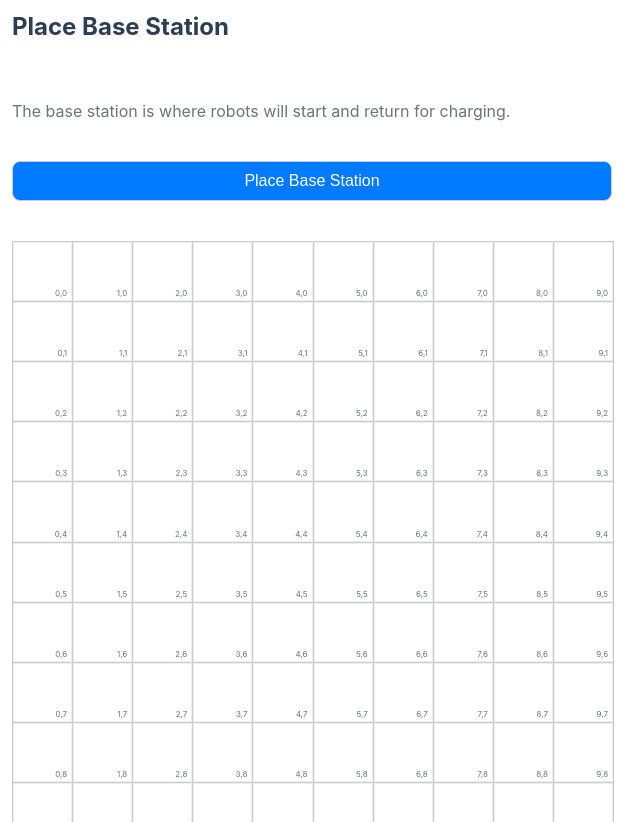
Test: BaseStationStep Component › enables placement mode when button is clicked
Click the button "Place Base Station" at (312, 181), box [12,161,612,201]
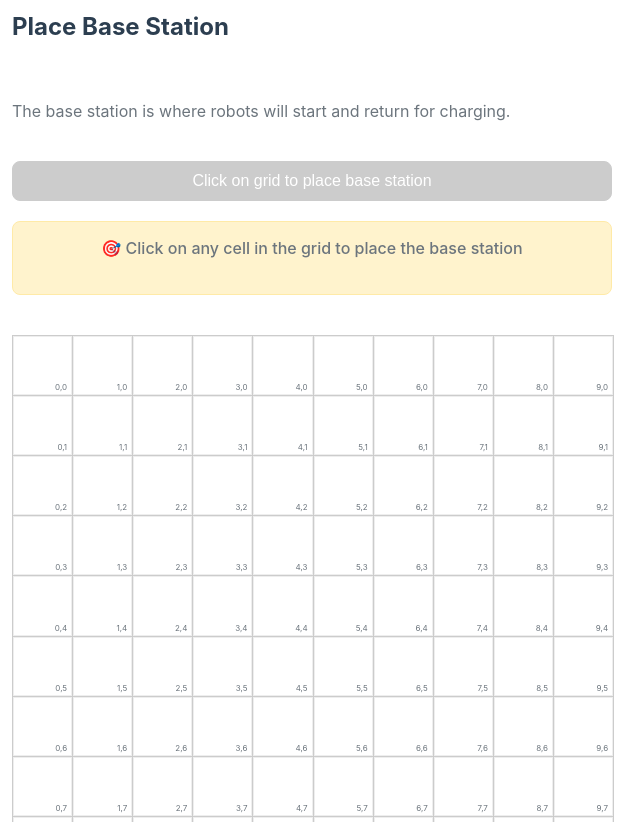
Check: the button "Click on grid to place base station" is shown, box [12,161,612,201]
